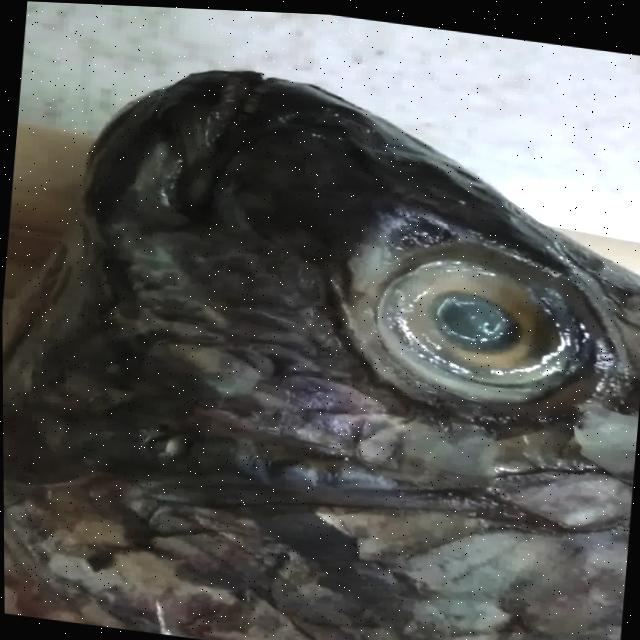Non-Fresh: (344, 216, 609, 426)
